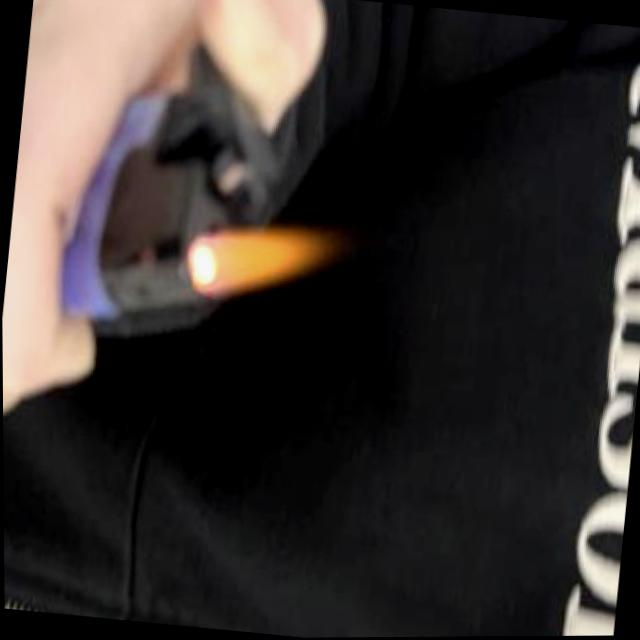fire: (175, 208, 347, 319)
